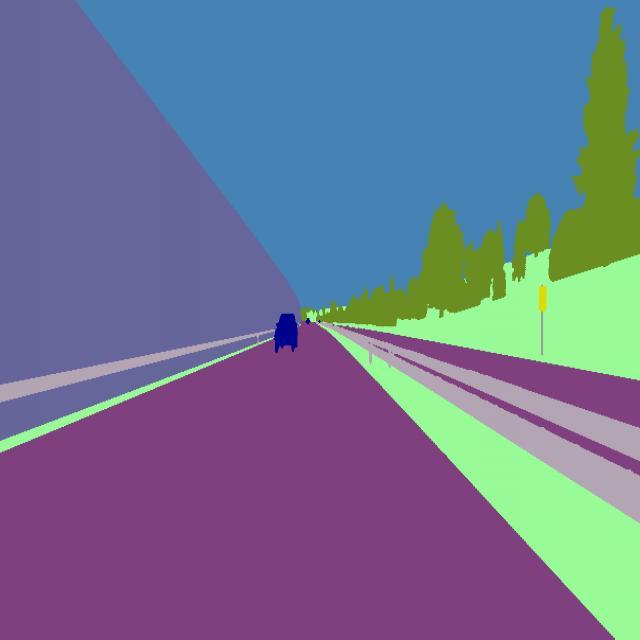safe: (270, 308, 302, 352)
